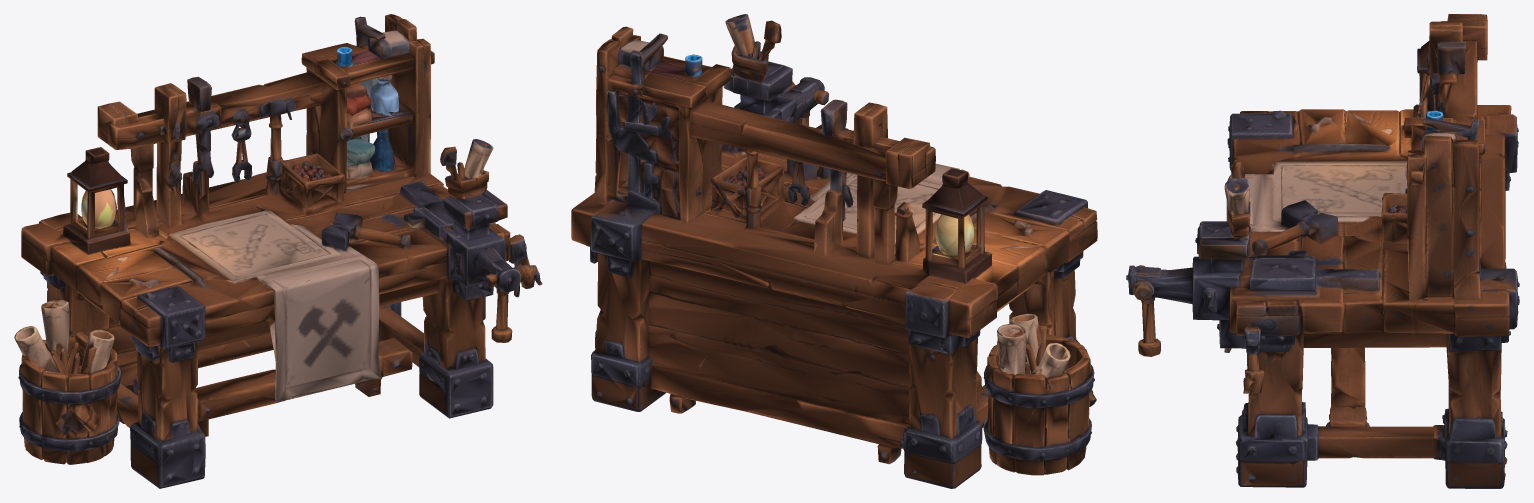
Rendered from CampWorkbench.glb.
3 views of the same model, side by side, from view 1: azimuth 30°, elevation 25°; view 2: azimuth 150°, elevation 25°; view 3: azimuth 270°, elevation 25° (orthographic). The views are drawn at different scales.
Parts seen in each view (by area): view 1: output_unwrapped; view 2: output_unwrapped; view 3: output_unwrapped.
Boxes of the visible parts, x1,y1,x2,y2 form: output_unwrapped: (14,14,542,488); output_unwrapped: (571,14,1097,488); output_unwrapped: (1126,14,1519,488).
Bounding box in the file's own units: 1.89 × 1.28 × 1.28.
Materials: 1 (1 with a texture image).
